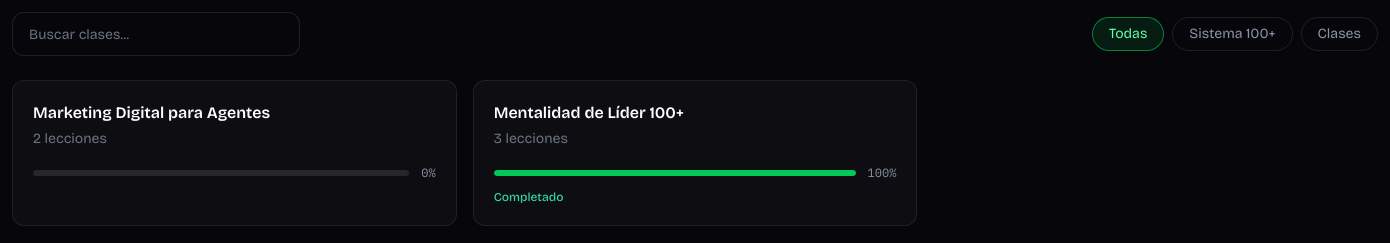
Test: ClasesCatalogo › muestra estado vacío si no hay resultados
The width and height of the screenshot is (1390, 243).
Type "no existe" into the field labelled "Buscar clases" at (156, 34), box [12,12,300,56]
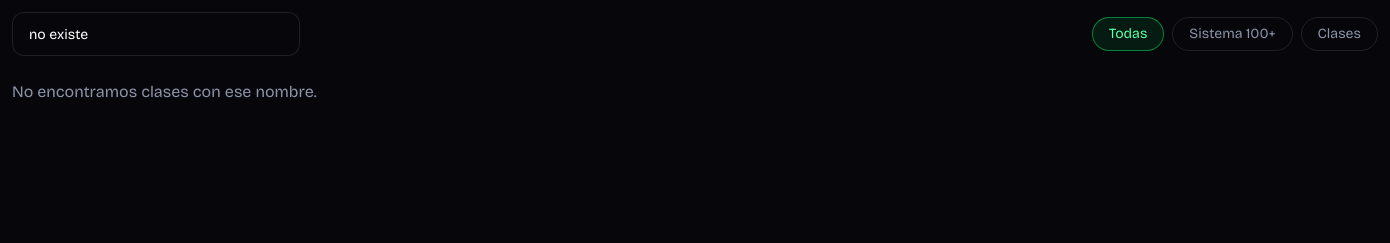
Expected: the text "No encontramos clases con ese nombre." is shown, [12,82,317,101]
